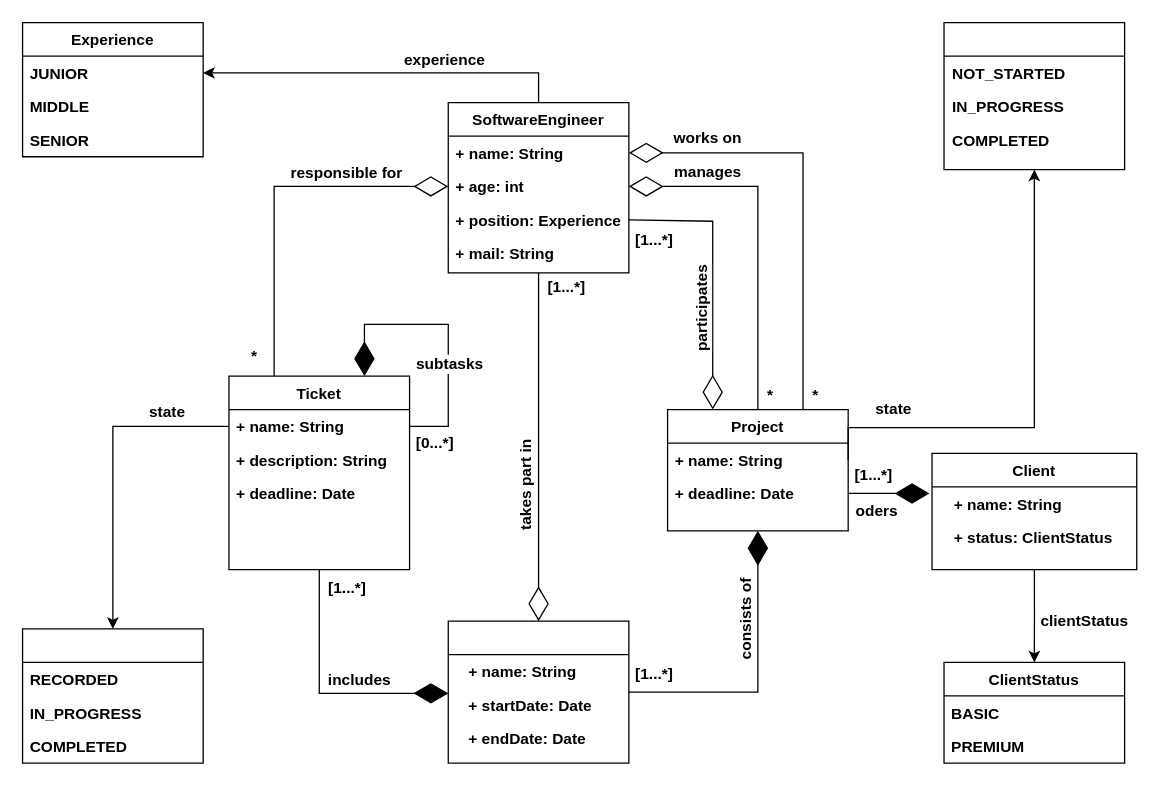
This 1174x789 diagram has some shape labels left out. Here are the shapes that lost their labels. From the top down, the box of each, then its label:
(943, 21, 1125, 170): ProjectState
(21, 628, 203, 763): TicketState
(447, 620, 629, 763): Sprint
